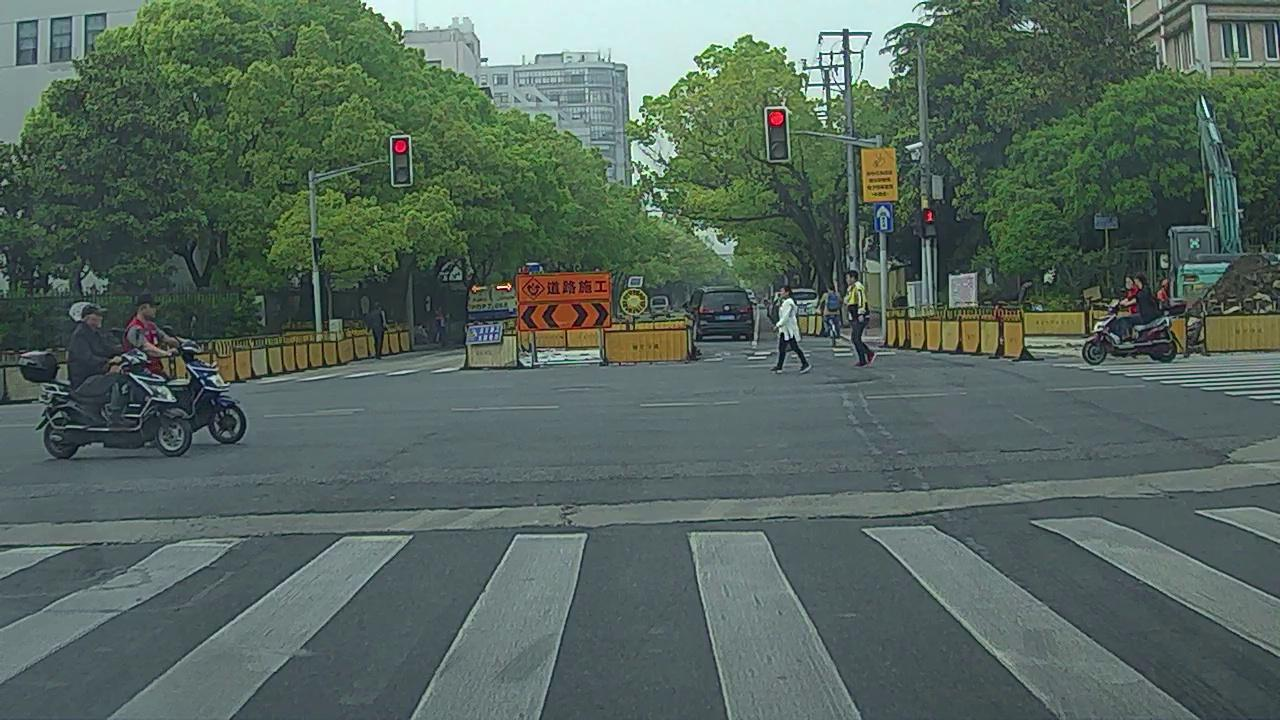traffic_light: (767, 107, 790, 161), (391, 136, 411, 185)
